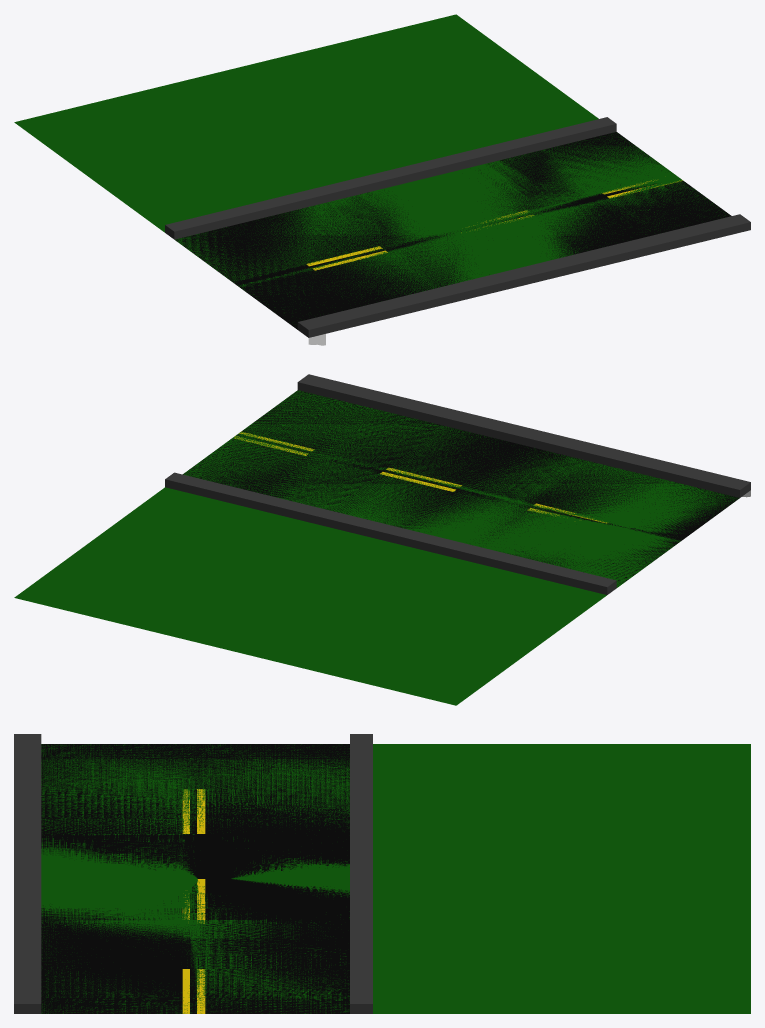
Rendered from FLAG.fbx.
3 renders of one model, top to bottom at view 1: azimuth 30°, elevation 25°; view 2: azimuth 150°, elevation 25°; view 3: azimuth 270°, elevation 25°, orthographic. The views are drawn at different scales.
Parts seen in each view (by area): view 1: Plane.003, Plane.001; view 2: Plane.003, Plane.001; view 3: Plane.003, Plane.001.
Boxes of the visible parts, x1=… form: Plane.003: x1=14, y1=14, x2=725, y2=313; Plane.001: x1=165, y1=117, x2=750, y2=337; Plane.003: x1=14, y1=390, x2=739, y2=705; Plane.001: x1=165, y1=374, x2=750, y2=594; Plane.003: x1=41, y1=744, x2=750, y2=1013; Plane.001: x1=14, y1=734, x2=372, y2=1013.
Bounding box in the file's own units: 5121 × 217 × 5909.
